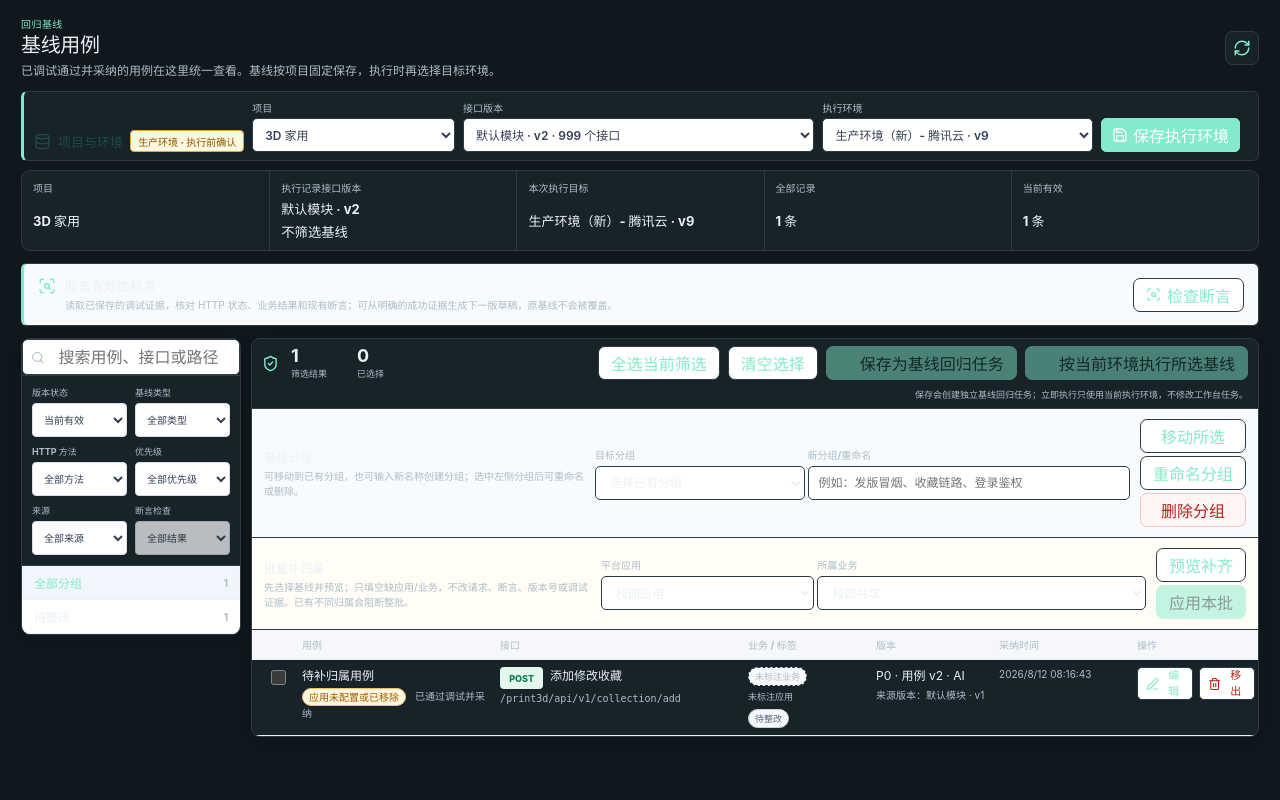
Test: BaselinesView fixed project assets › previews and applies missing application and business ownership in one batch
Click the checkbox: (278, 678) [271,670,286,685]
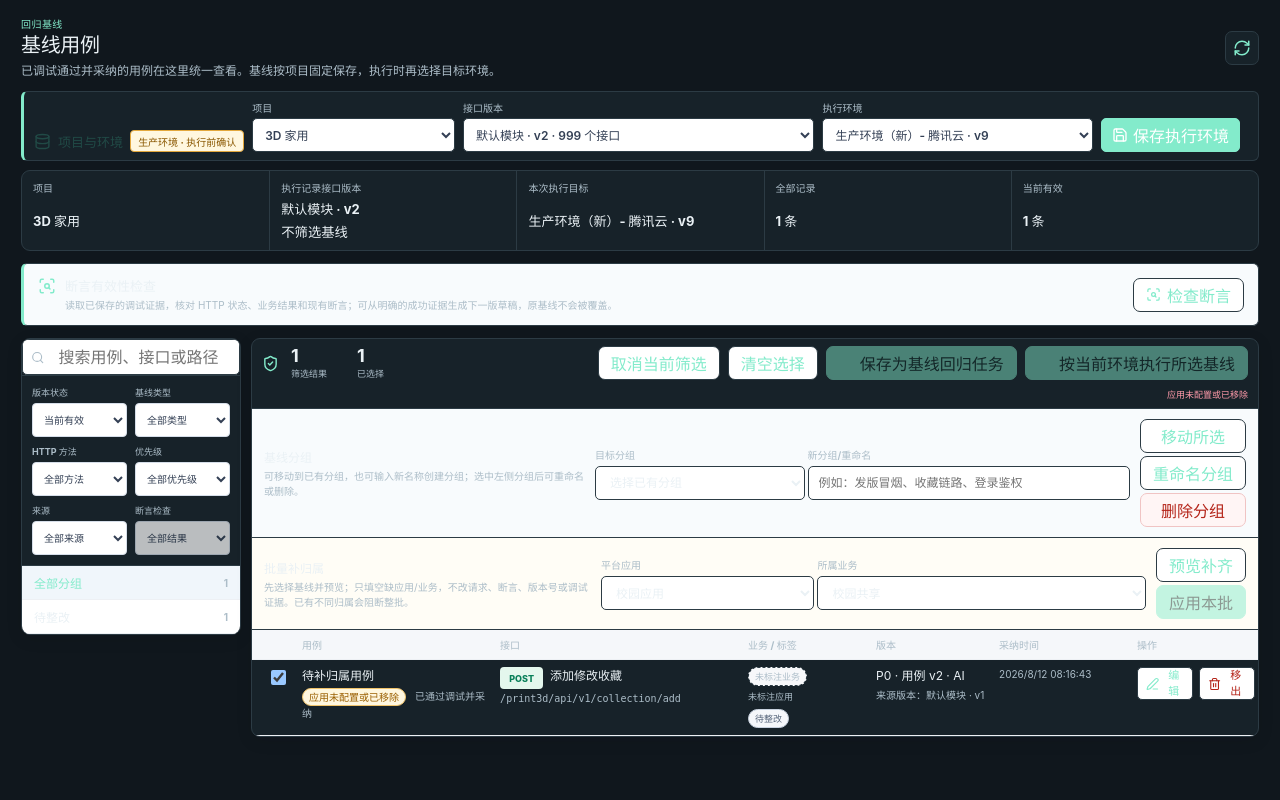
Select "校园应用" in the dropdown with test id "baseline-scope-application": (708, 593) [601,576,814,610]
Select "校园共享" in the dropdown with test id "baseline-scope-business": (982, 593) [818,576,1146,610]
Click the button with test id "baseline-scope-preview": (1201, 565) [1156,548,1246,582]
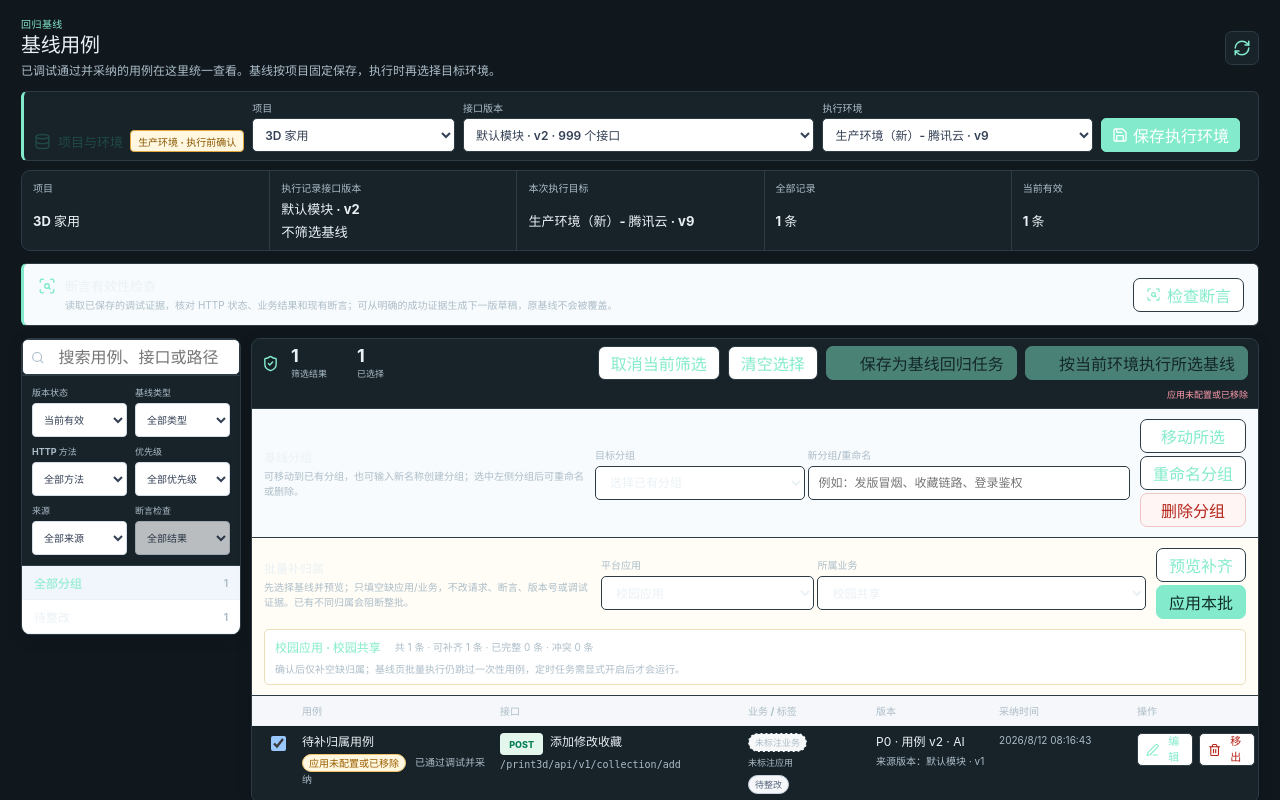
Expected: the element with test id "baseline-scope-preview-result" shows "可补齐 1 条", [395,641,594,653]
Expected: the element with test id "baseline-scope-preview-result" shows "冲突 0 条", [395,641,594,653]
Click the button with test id "baseline-scope-apply": (1201, 602) [1156,585,1246,619]
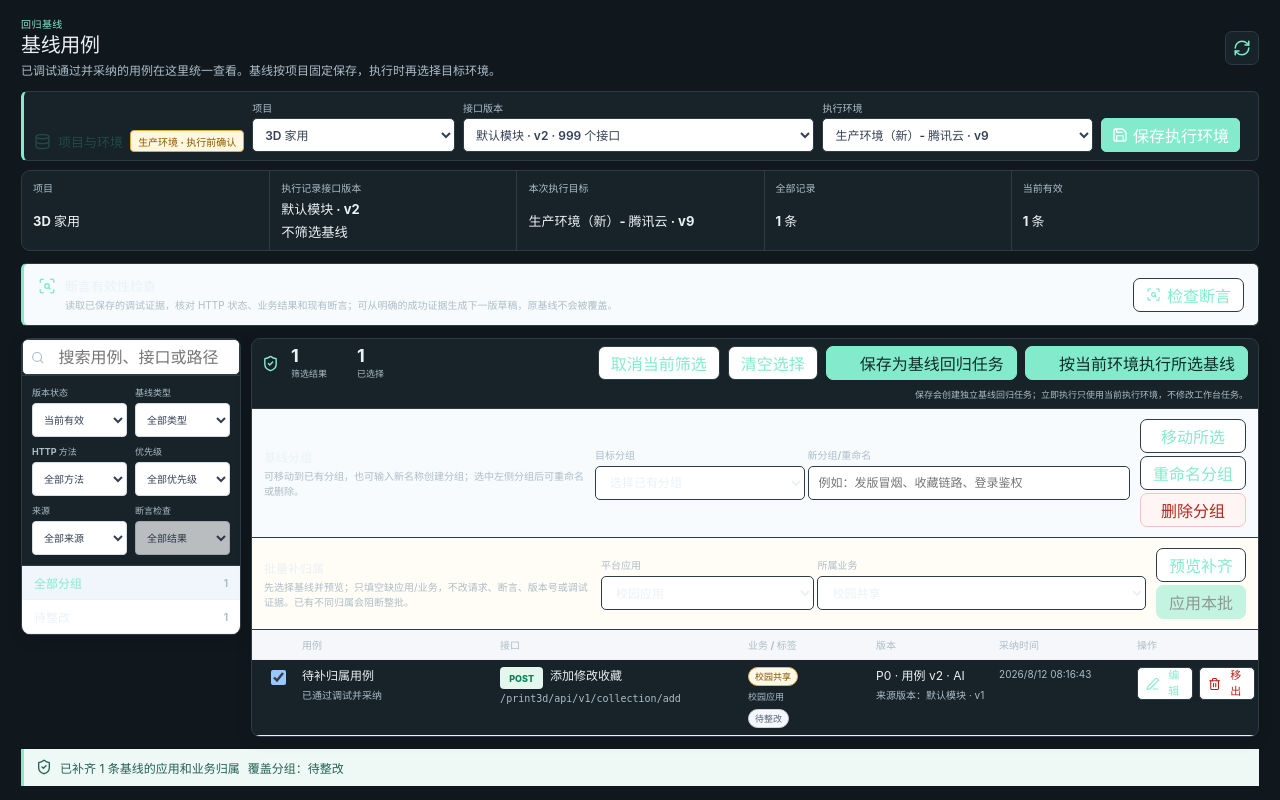
Expected: the text "已补齐 1 条基线的应用和业务归属" is shown, [60,761,240,776]
Expected: the text with test id "baseline-application-baseline-missing" reads "校园应用", [748,691,784,702]
Expected: the text with test id "baseline-business-baseline-missing" reads "校园共享", [755,671,791,682]
